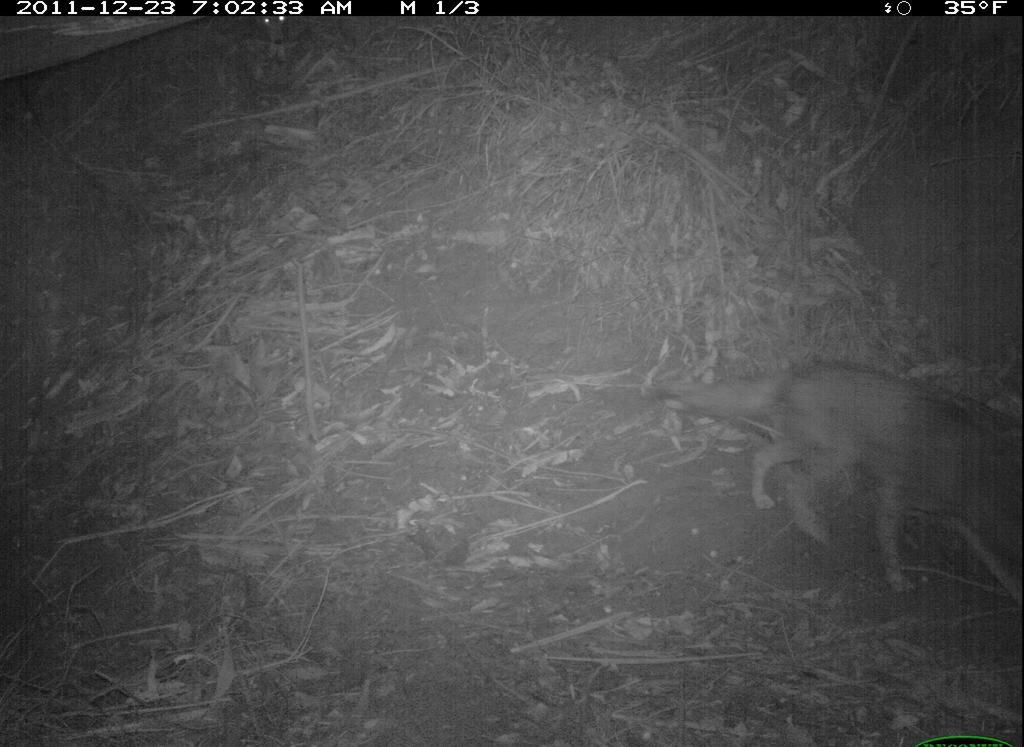coyote: (657, 354, 1023, 601)
